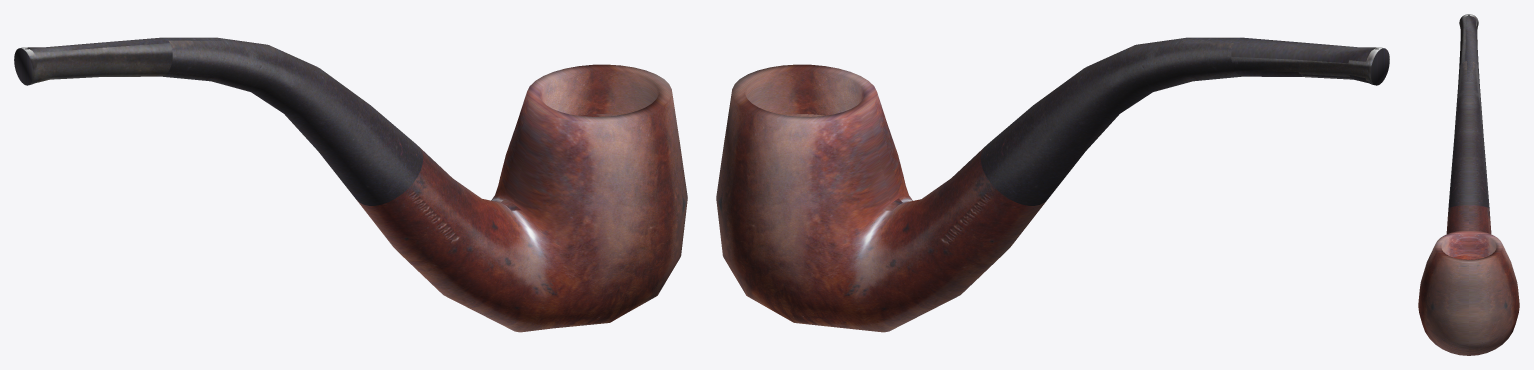
Rendered from pipe.obj.
3 views of the same model, side by side, from view 1: azimuth 30°, elevation 25°; view 2: azimuth 150°, elevation 25°; view 3: azimuth 270°, elevation 25° (orthographic). The views are drawn at different scales.
Parts seen in each view (by area): view 1: Circle; view 2: Circle; view 3: Circle.
Part boxes in pixels (box(x1,y1,x2,y2)): Circle: box(14, 37, 687, 332); Circle: box(716, 37, 1389, 332); Circle: box(1418, 14, 1519, 355).
Size of the model in its own units: 9.85 by 5.84 by 2.67.
